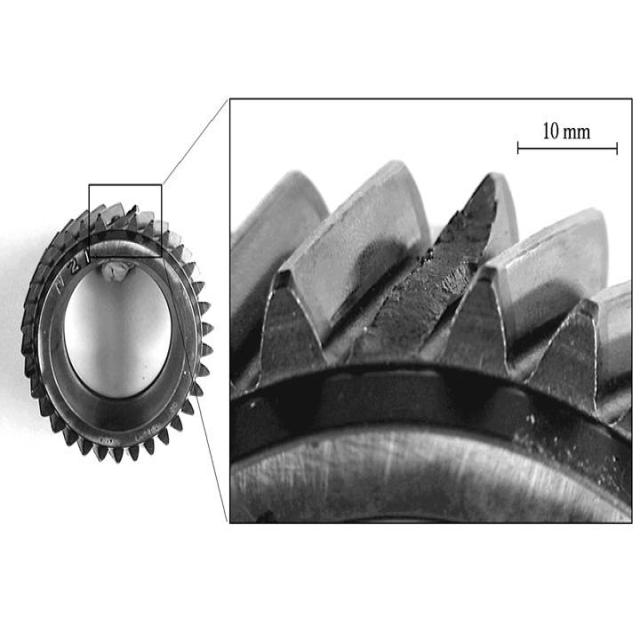Fault-Exist: (255, 128, 615, 432), (17, 177, 221, 494), (98, 189, 161, 257)
